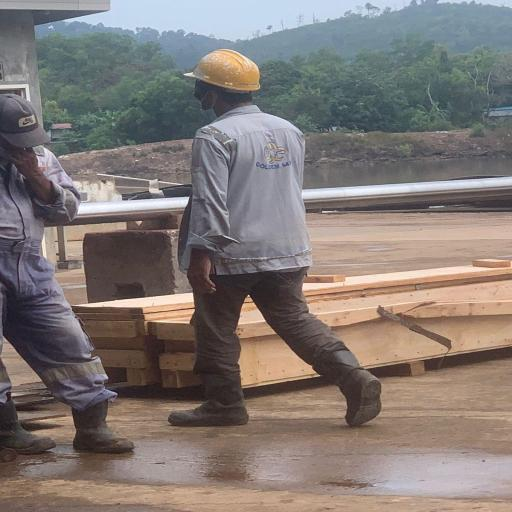safety_shoe: (308, 337, 381, 421), (165, 374, 251, 428), (0, 389, 59, 458), (70, 398, 138, 455)
